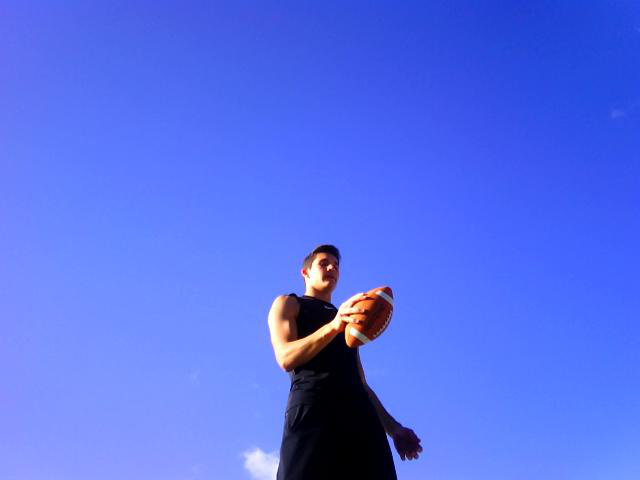footbal: (344, 286, 395, 348)
